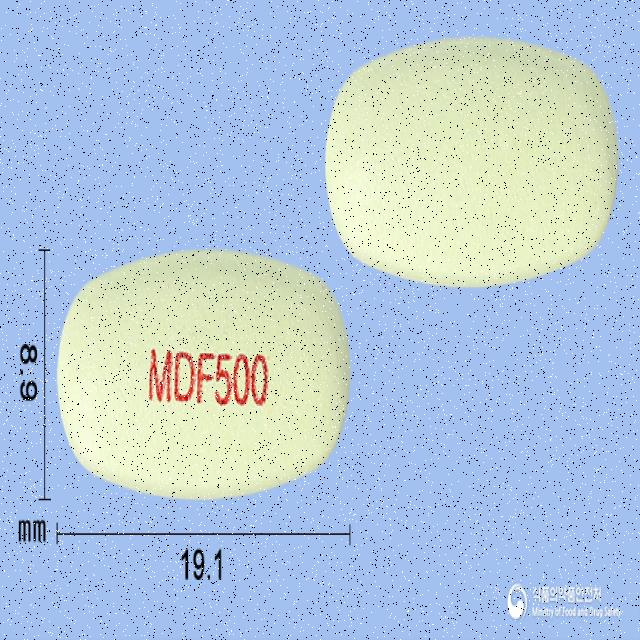Clarid: (53, 239, 352, 507), (323, 28, 622, 290)
